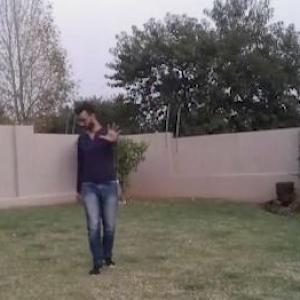follow_hand: (97, 117, 126, 144)
